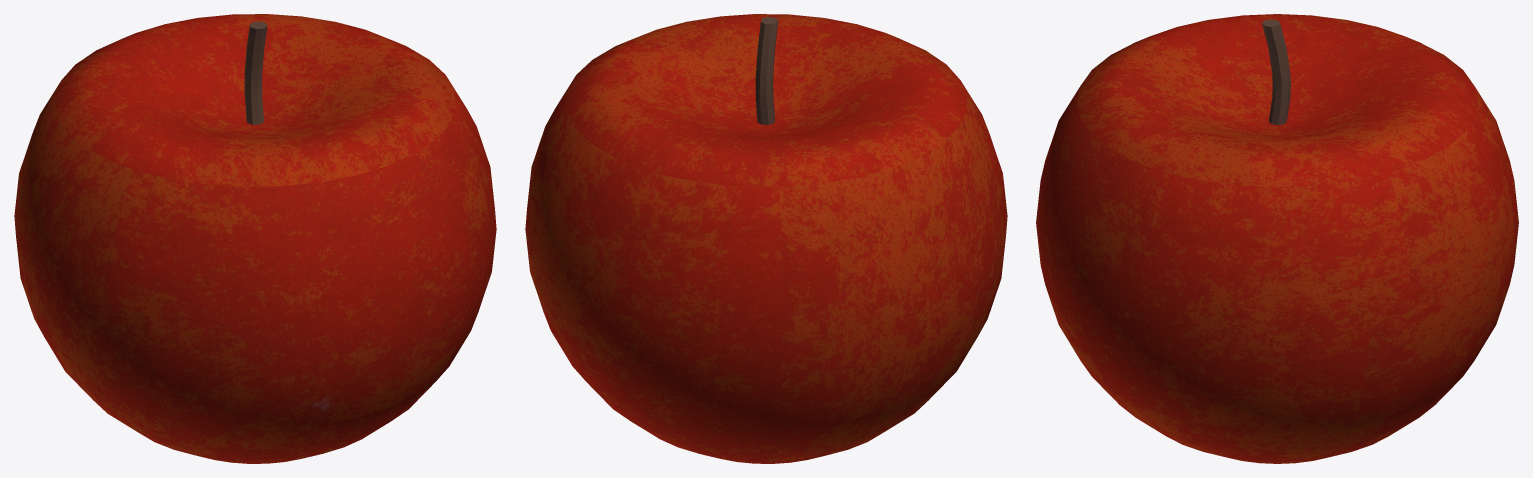
File: red_apple.glb
3 renders of one model, left to right at view 1: azimuth 30°, elevation 25°; view 2: azimuth 150°, elevation 25°; view 3: azimuth 270°, elevation 25°, orthographic.
Visible parts, largest first — view 1: red_apple; view 2: red_apple; view 3: red_apple.
Boxes of the visible parts, bbox=[...] form: red_apple: bbox=[14, 14, 496, 463]; red_apple: bbox=[525, 14, 1007, 463]; red_apple: bbox=[1036, 14, 1518, 463].
Bounding box in the file's own units: 0.06 × 0.0574 × 0.06.
Materials: 2 (1 with a texture image).
